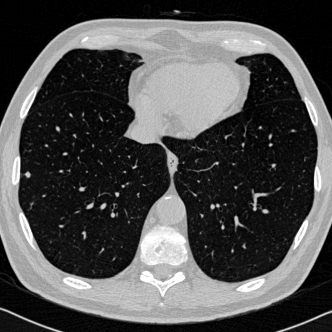nodule: (24, 171, 30, 177)
